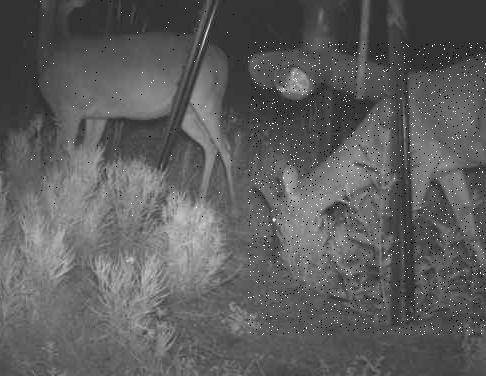Deer: (248, 42, 486, 335), (25, 0, 242, 217)
